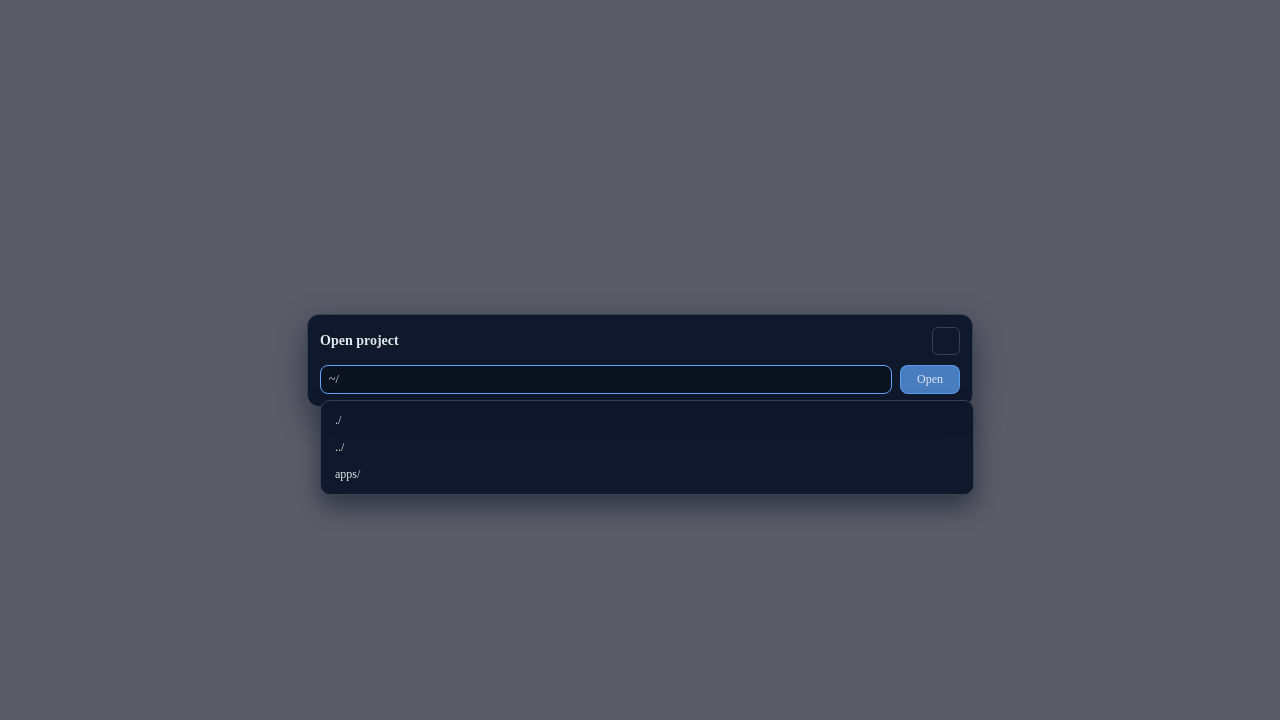
Scenario: lets kimi-web browse below home but stops at a project with .git
Click the option "apps/" at (348, 474), box [335,466,360,480]
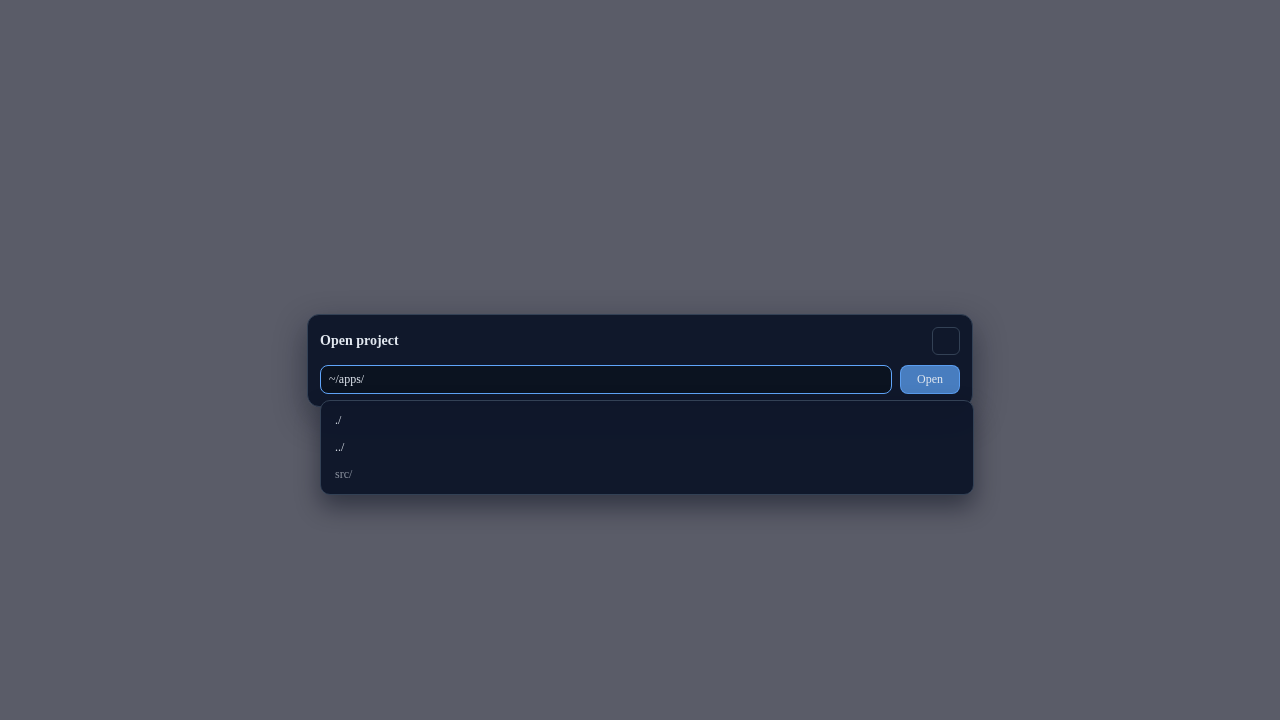
Now the field holds "~/apps/", box [320,364,892,394]
